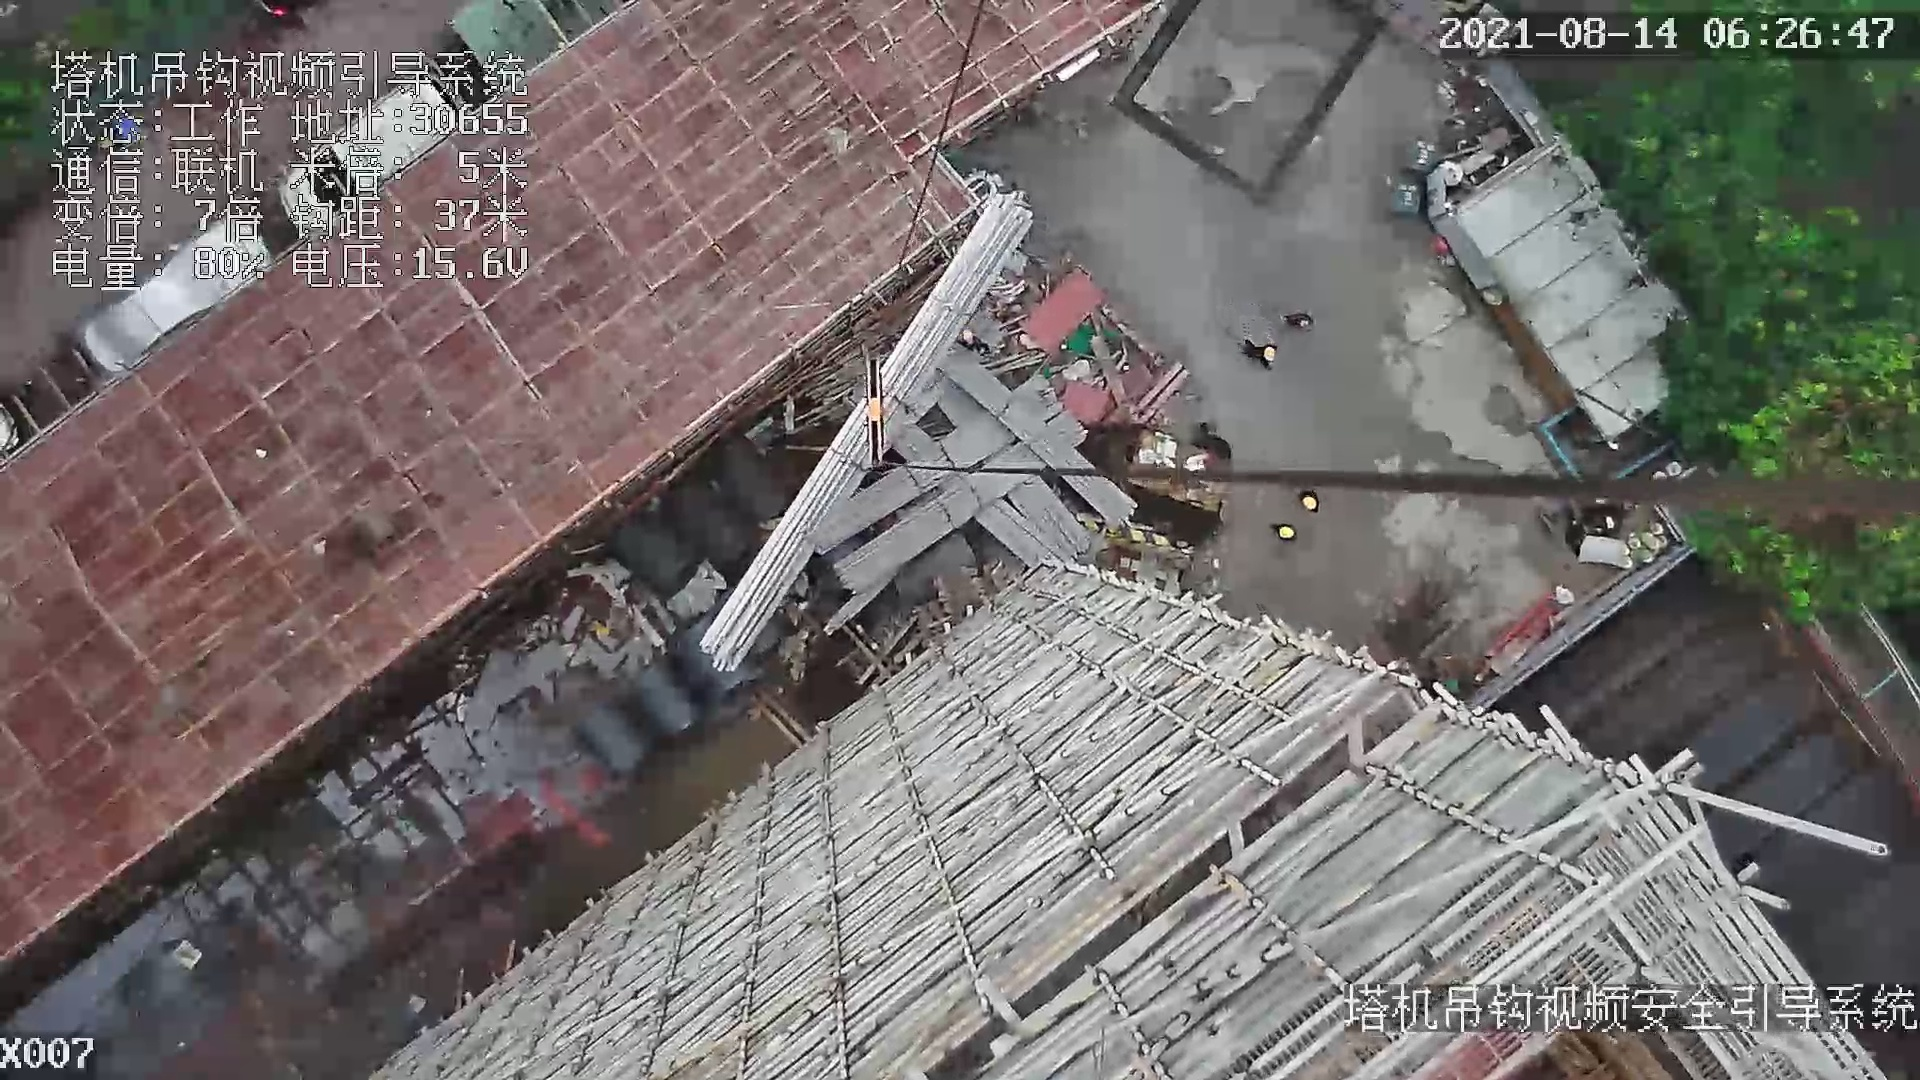helmet: (1301, 495, 1316, 510), (1263, 344, 1275, 363), (1278, 526, 1292, 537)
person: (1254, 332, 1282, 372), (1287, 306, 1314, 328), (1297, 485, 1319, 509), (1276, 522, 1292, 542)
